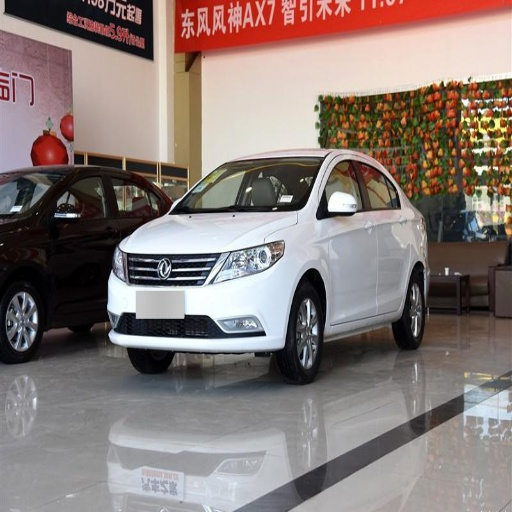front_bumper: (107, 251, 297, 353)
front_glass: (170, 157, 322, 213)
front_left_door: (319, 156, 378, 325)
